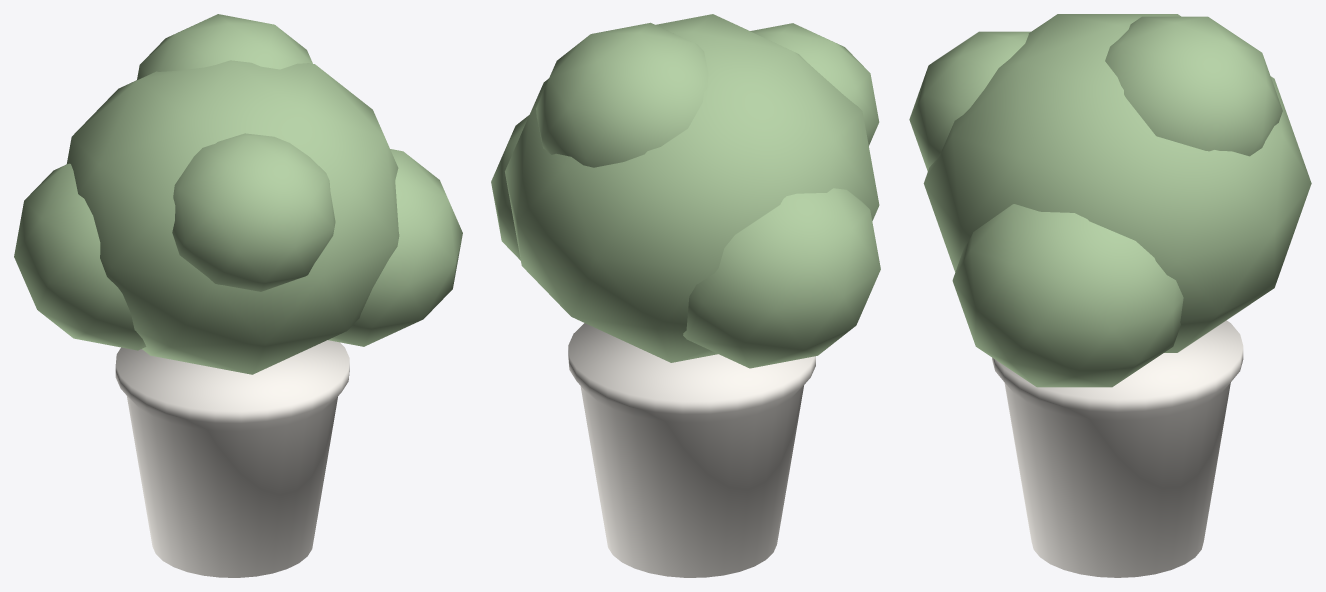
Rendered from potted_plant_02.glb.
The picture shows the model from 3 angles, left to right: view 1: azimuth 30°, elevation 25°; view 2: azimuth 150°, elevation 25°; view 3: azimuth 270°, elevation 25°; orthographic projection. The views are drawn at different scales.
Parts seen in each view (by area): view 1: potted_plant_02_leaves, potted_plant_02_pot; view 2: potted_plant_02_leaves, potted_plant_02_pot; view 3: potted_plant_02_leaves, potted_plant_02_pot.
Boxes of the visible parts, x1,y1,x2,y2 form: potted_plant_02_leaves: [14, 14, 462, 374]; potted_plant_02_pot: [115, 340, 349, 577]; potted_plant_02_leaves: [491, 14, 880, 368]; potted_plant_02_pot: [568, 323, 815, 577]; potted_plant_02_leaves: [909, 14, 1311, 387]; potted_plant_02_pot: [992, 320, 1243, 577].
Bounding box in the file's own units: 0.6434 × 0.815 × 0.56.
